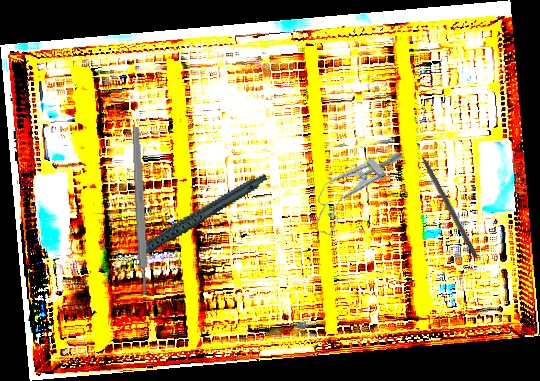Handpiece: (106, 173, 278, 264)
Hook Surgical: (412, 140, 480, 259)
Scalpel Handle: (130, 126, 150, 296)
Speculum: (298, 132, 410, 240)
